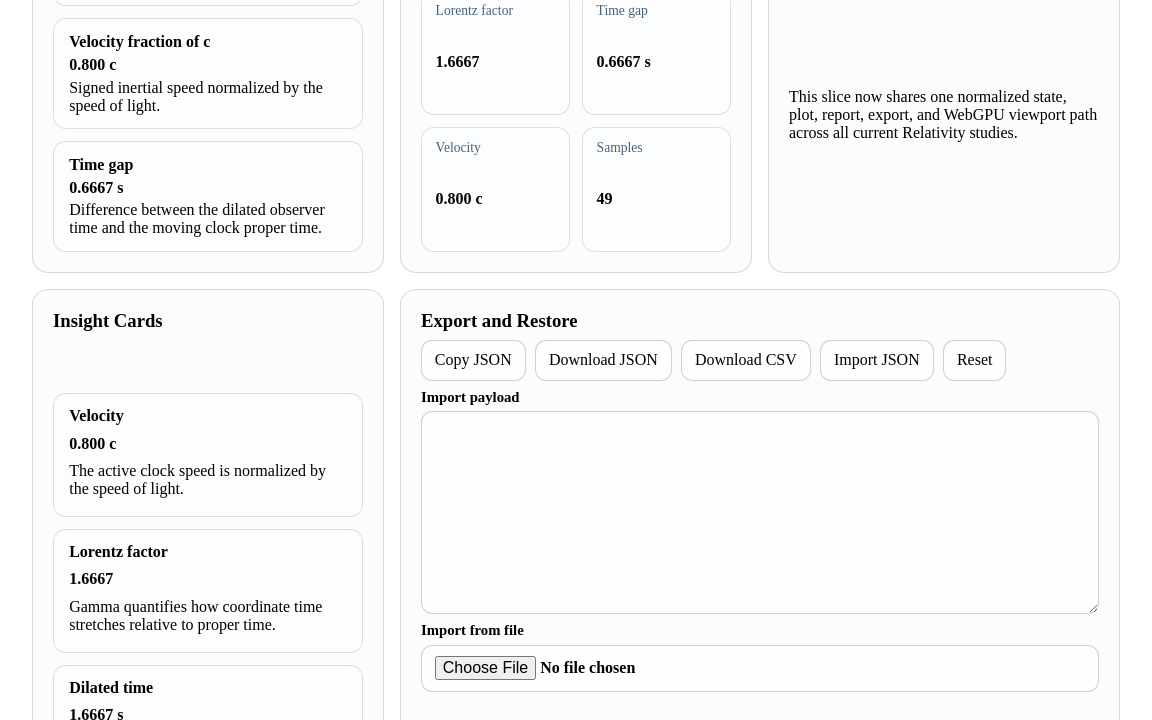
Test: RelativityPageComponent › shows a failure message when relativity clipboard export is unavailable
(page scrolled)
Click the button "Copy JSON" at (473, 360), box [421,340,526,381]
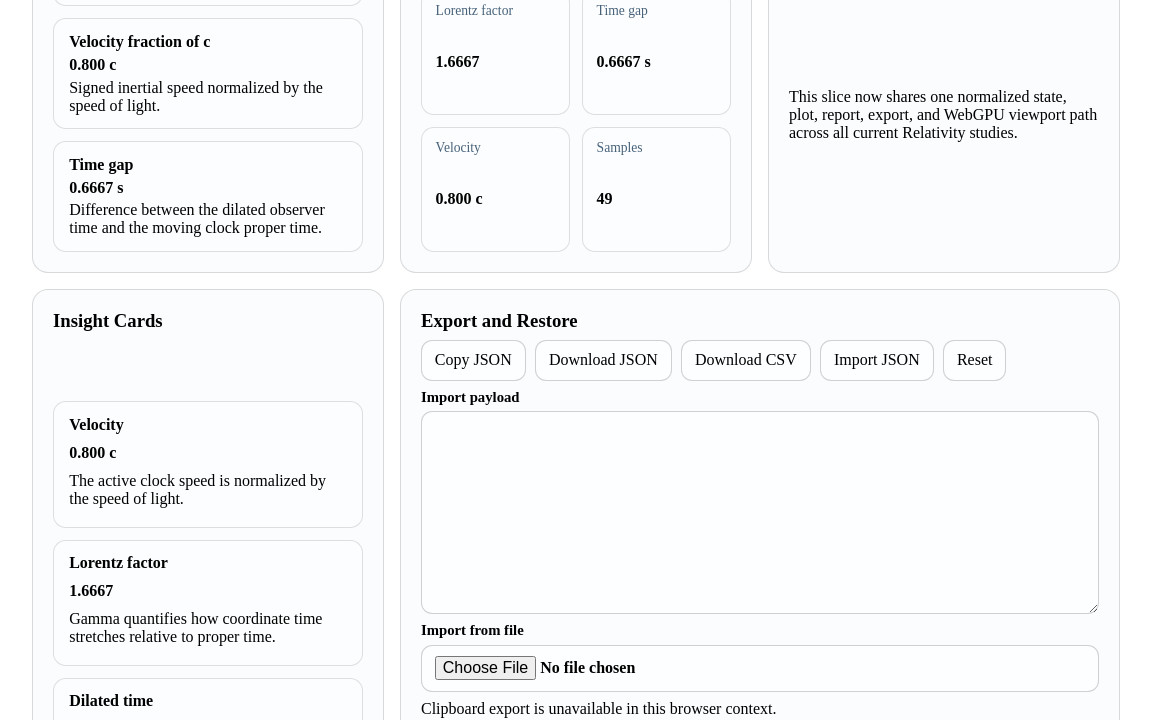
Result: the text "Clipboard export is unavailable in this browser context." is shown at [421,700,776,717]
